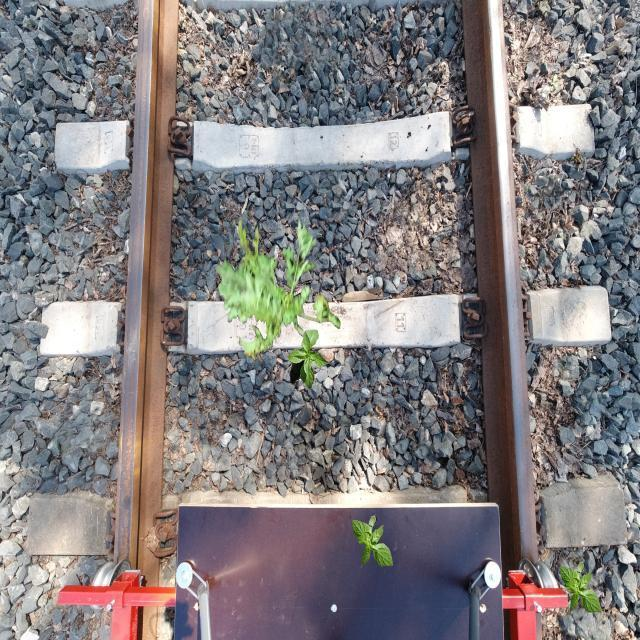Plant: (216, 216, 341, 363), (288, 330, 330, 390), (352, 515, 394, 568), (560, 561, 602, 614)
